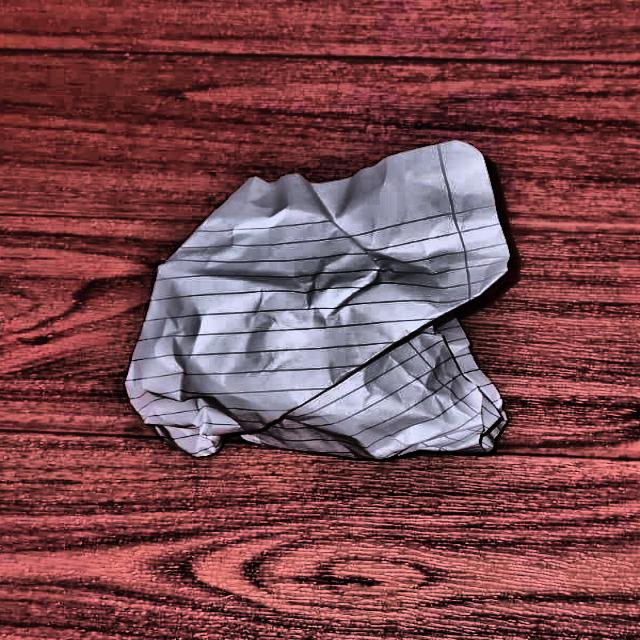paper: (97, 137, 539, 465)
